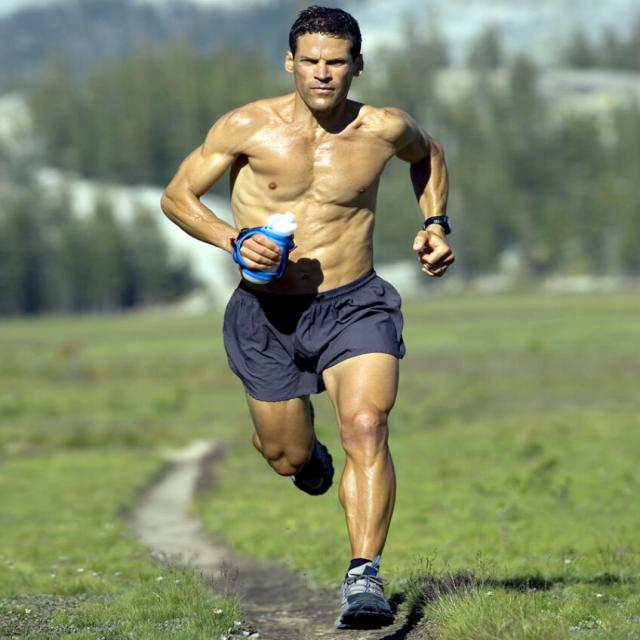running: (154, 5, 459, 630)
